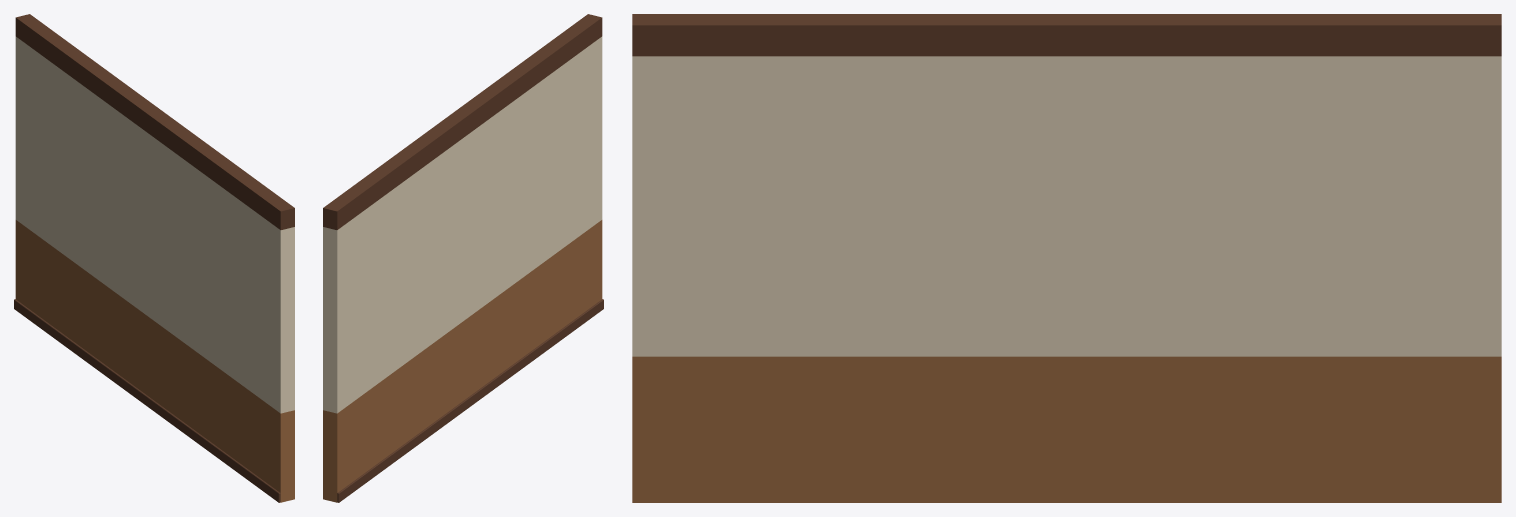
The model's file is tea_house_shell_wall_x.glb.
The picture shows the model from 3 angles, left to right: view 1: azimuth 30°, elevation 25°; view 2: azimuth 150°, elevation 25°; view 3: azimuth 270°, elevation 25°; orthographic projection. The views are drawn at different scales.
Visible parts, largest first — view 1: tea_house_shell_wall_x; view 2: tea_house_shell_wall_x; view 3: tea_house_shell_wall_x.
Boxes of the visible parts, box(x1,y1,x2,y2) form: tea_house_shell_wall_x: box(14, 14, 294, 502); tea_house_shell_wall_x: box(323, 14, 603, 502); tea_house_shell_wall_x: box(632, 14, 1501, 502).
Bounding box in the file's own units: 0.17 × 2.94 × 4.85.
